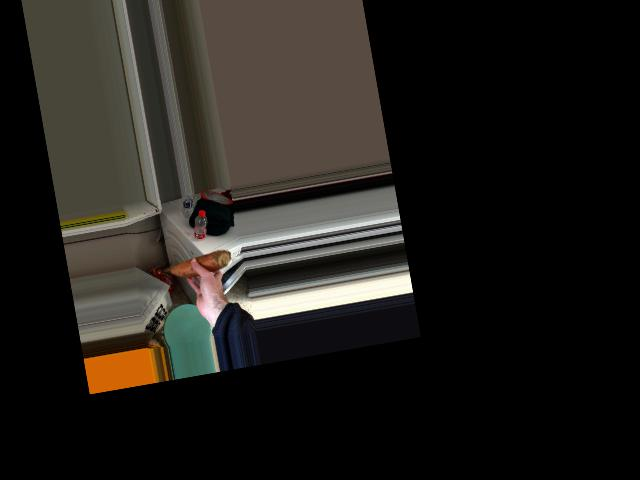sweet_potato: (170, 256, 224, 279)
